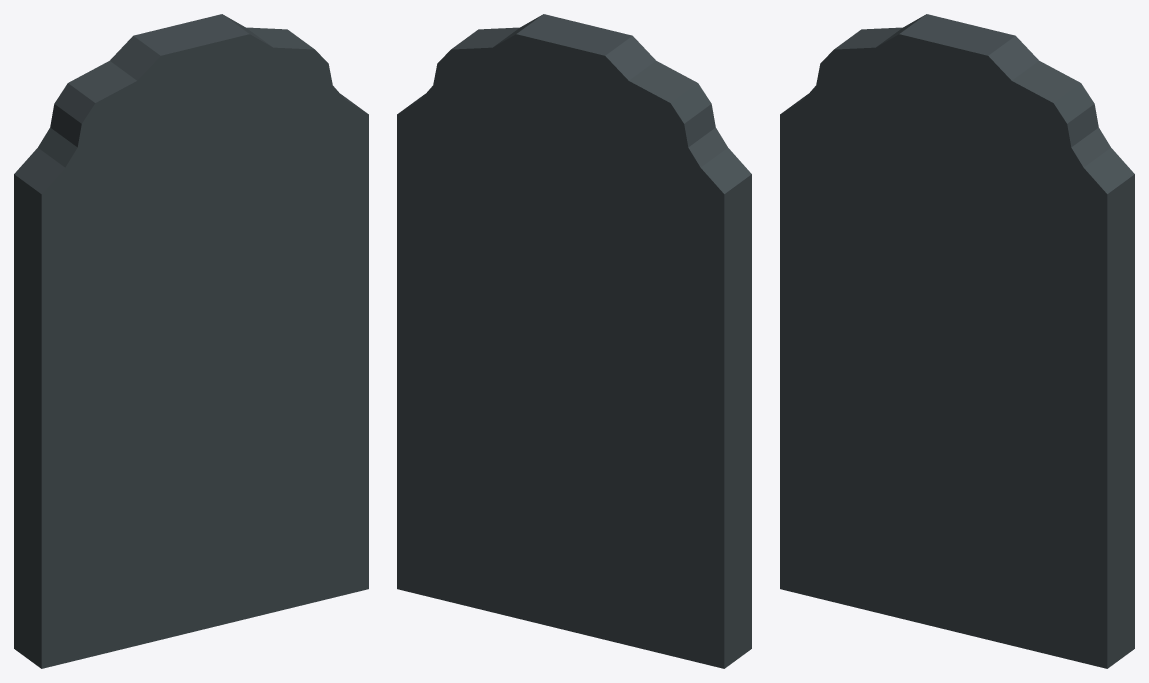
Rendered from tombstone_1.fbx.
3 views of the same model, side by side, from view 1: azimuth 30°, elevation 25°; view 2: azimuth 150°, elevation 25°; view 3: azimuth 330°, elevation 25° (orthographic).
Visible parts, largest first — view 1: tombstone; view 2: tombstone; view 3: tombstone.
Part boxes in pixels (x1,y1,x2,y2): tombstone: (14,14,368,668); tombstone: (397,14,751,668); tombstone: (780,14,1134,668).
Size of the model in its own units: 0.4936 by 0.8418 by 0.0719.
